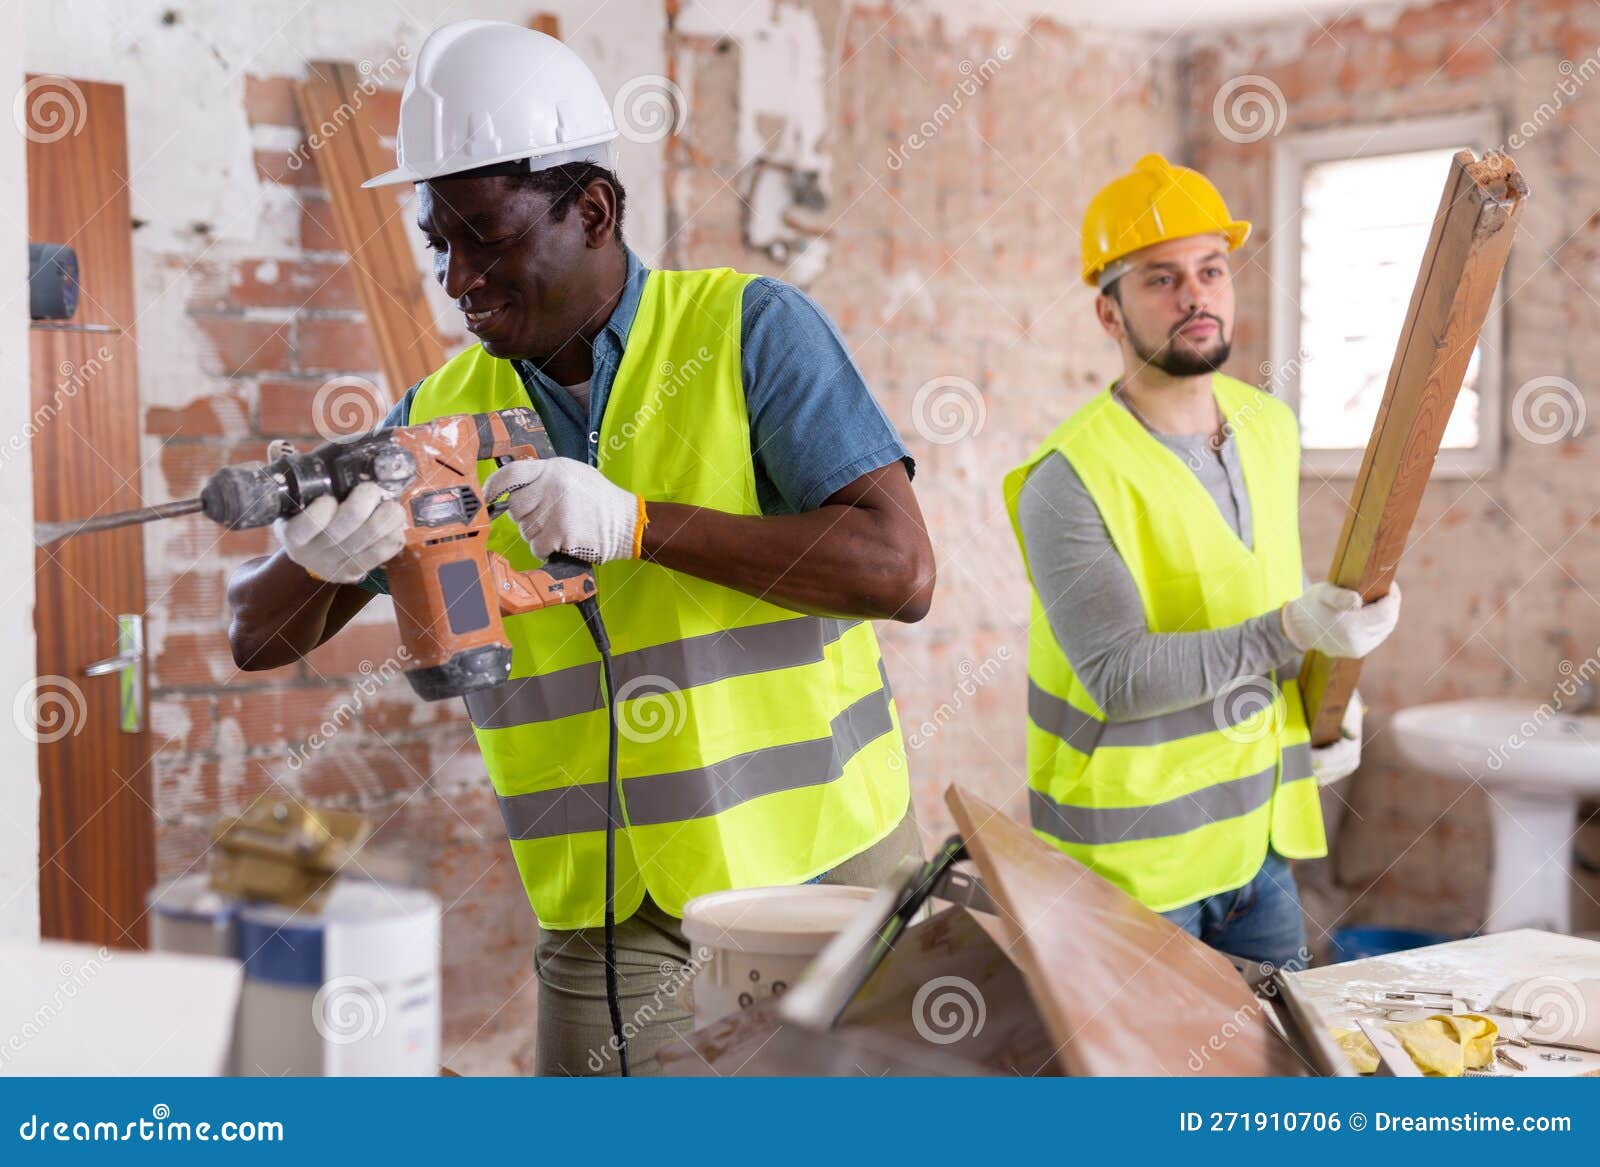jacket: (402, 342, 893, 896), (1005, 388, 1334, 899)
white_hat: (383, 26, 624, 179), (1082, 162, 1266, 254)
